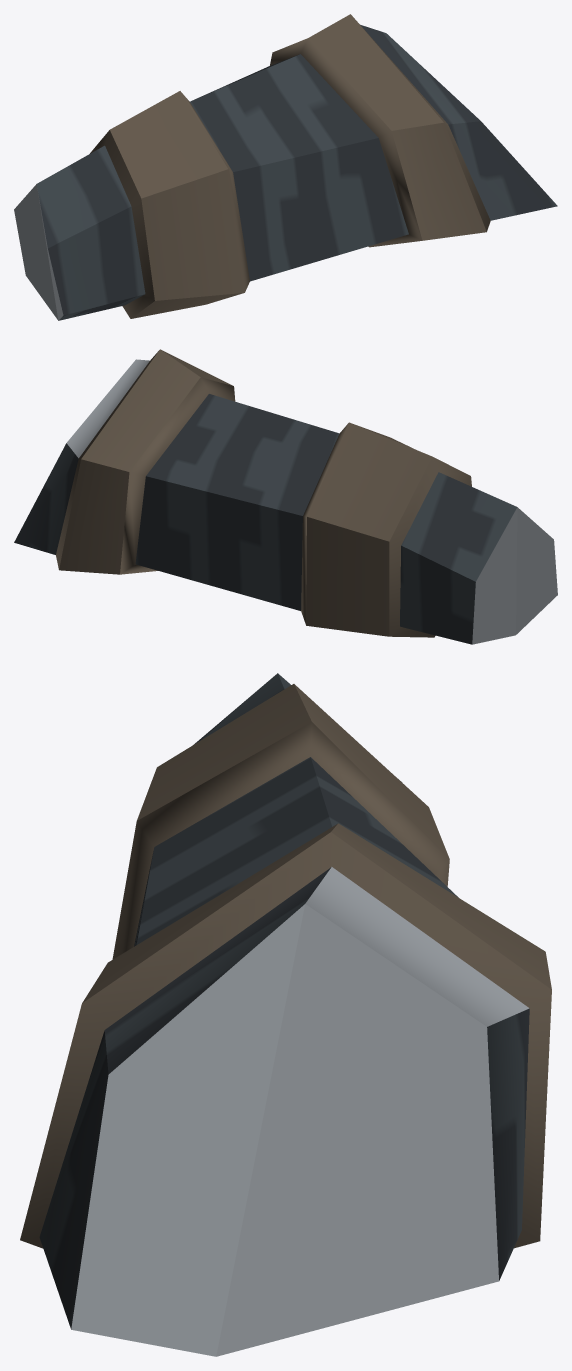
File: Chr_ArmUpperRight_Female_02_Static.fbx
3 renders of one model, top to bottom at view 1: azimuth 30°, elevation 25°; view 2: azimuth 150°, elevation 25°; view 3: azimuth 270°, elevation 25°, orthographic. The views are drawn at different scales.
Visible parts, largest first — view 1: Chr_ArmUpperRight_Female_02_Static; view 2: Chr_ArmUpperRight_Female_02_Static; view 3: Chr_ArmUpperRight_Female_02_Static.
Boxes of the visible parts, x1,y1,x2,y2 form: Chr_ArmUpperRight_Female_02_Static: [14, 14, 557, 320]; Chr_ArmUpperRight_Female_02_Static: [14, 349, 557, 644]; Chr_ArmUpperRight_Female_02_Static: [20, 673, 551, 1356].
Bounding box in the file's own units: 0.3535 × 0.1657 × 0.1692.
